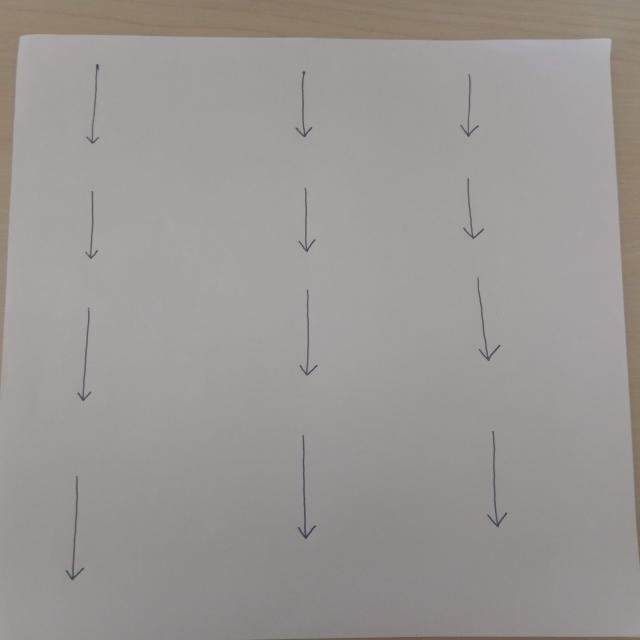arrow_line_down: (58, 468, 100, 590), (472, 427, 517, 535), (465, 278, 509, 370), (63, 308, 105, 404), (297, 431, 324, 543), (449, 70, 492, 138), (455, 178, 496, 244), (77, 62, 108, 148), (286, 184, 321, 256), (292, 304, 322, 382), (292, 64, 320, 138), (84, 188, 102, 262)
